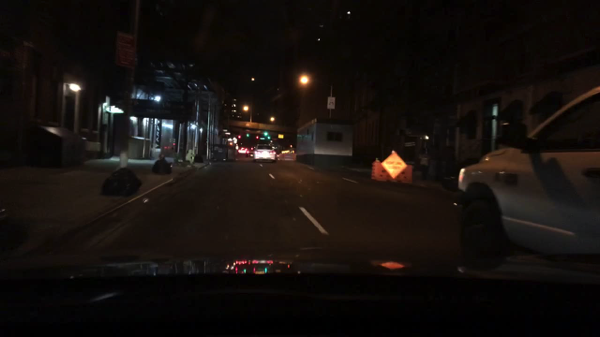car: (451, 86, 599, 262), (253, 143, 278, 164), (244, 147, 255, 158), (240, 147, 247, 154)
person: (418, 145, 431, 182), (48, 186, 53, 189)
traffic light: (263, 131, 269, 136), (246, 132, 249, 138)
traffic sign: (380, 150, 407, 179), (115, 35, 136, 72), (327, 96, 336, 110), (278, 135, 285, 140)
